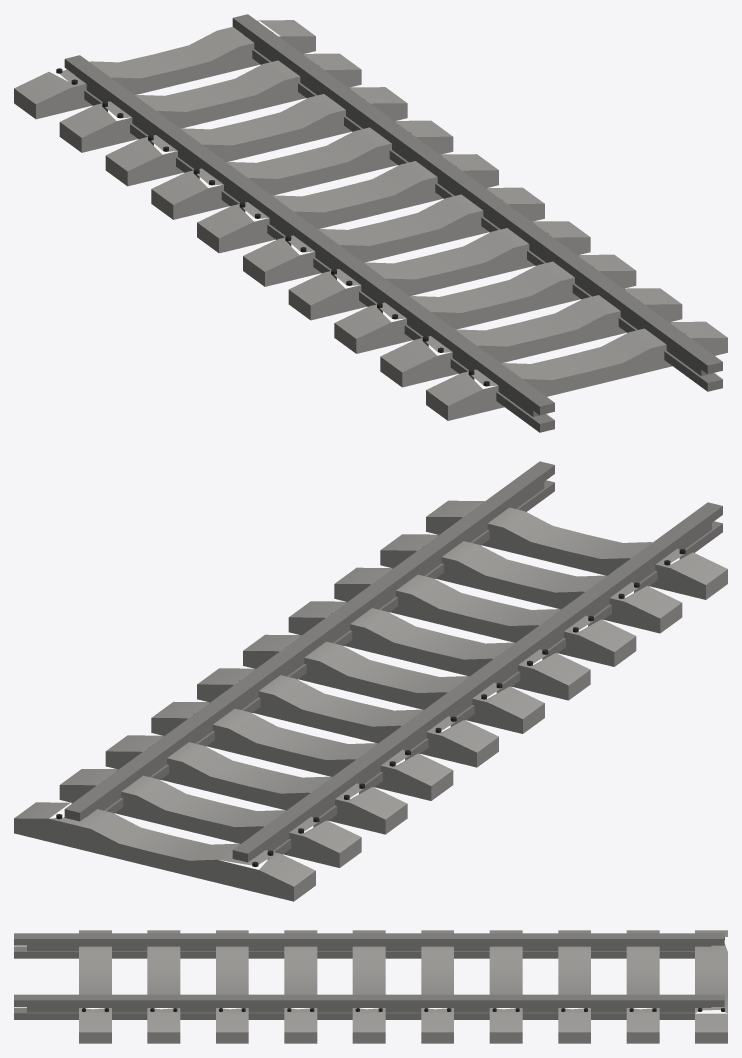
File: Rails.glb
The picture shows the model from 3 angles, top to bottom: view 1: azimuth 30°, elevation 25°; view 2: azimuth 150°, elevation 25°; view 3: azimuth 270°, elevation 25°; orthographic projection. The views are drawn at different scales.
Parts seen in each view (by area): view 1: Rails; view 2: Rails; view 3: Rails.
Boxes of the visible parts, x1,y1,x2,y2 form: Rails: [14, 14, 727, 432]; Rails: [14, 461, 727, 901]; Rails: [14, 930, 727, 1043].
Size of the model in its own units: 106 by 12.42 by 313.
Materials: 1 (1 with a texture image).
